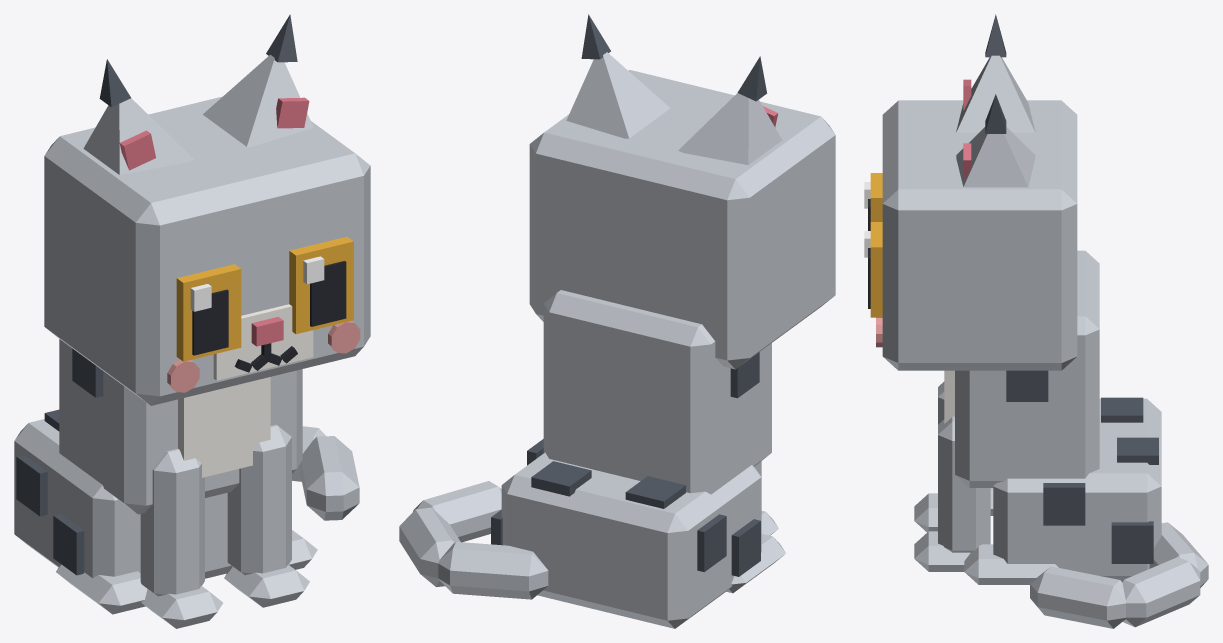
Rendered from CleanACat_Cat_Marble_Sit.fbx.
The picture shows the model from 3 angles, left to right: view 1: azimuth 30°, elevation 25°; view 2: azimuth 150°, elevation 25°; view 3: azimuth 270°, elevation 25°; orthographic projection. The views are drawn at different scales.
Visible parts, largest first — view 1: CleanACat_Cat_Marble_Sit_Head, CleanACat_Cat_Marble_Sit_Body, CleanACat_Cat_Marble_Sit_LegF2, CleanACat_Cat_Marble_Sit_LegF1, CleanACat_Cat_Marble_Sit_EarL, CleanACat_Cat_Marble_Sit_EarR, CleanACat_Cat_Marble_Sit_Eye2, CleanACat_Cat_Marble_Sit_Eye1, CleanACat_Cat_Marble_Sit_Tail; view 2: CleanACat_Cat_Marble_Sit_Body, CleanACat_Cat_Marble_Sit_Head, CleanACat_Cat_Marble_Sit_Tail, CleanACat_Cat_Marble_Sit_EarL, CleanACat_Cat_Marble_Sit_EarR; view 3: CleanACat_Cat_Marble_Sit_Head, CleanACat_Cat_Marble_Sit_Body, CleanACat_Cat_Marble_Sit_Tail, CleanACat_Cat_Marble_Sit_LegF1, CleanACat_Cat_Marble_Sit_EarL, CleanACat_Cat_Marble_Sit_EarR, CleanACat_Cat_Marble_Sit_Eye1, CleanACat_Cat_Marble_Sit_LegF2, CleanACat_Cat_Marble_Sit_Eye2.
Part boxes in pixels (x1,y1,x2,y2): CleanACat_Cat_Marble_Sit_Head: (44,96,370,405); CleanACat_Cat_Marble_Sit_Body: (14,339,317,614); CleanACat_Cat_Marble_Sit_LegF2: (140,448,222,628); CleanACat_Cat_Marble_Sit_LegF1: (224,424,309,607); CleanACat_Cat_Marble_Sit_EarL: (203,14,313,146); CleanACat_Cat_Marble_Sit_EarR: (83,59,194,174); CleanACat_Cat_Marble_Sit_Eye2: (176,264,241,361); CleanACat_Cat_Marble_Sit_Eye1: (289,236,353,334); CleanACat_Cat_Marble_Sit_Tail: (292,426,359,520); CleanACat_Cat_Marble_Sit_Body: (491,290,785,628); CleanACat_Cat_Marble_Sit_Head: (529,70,835,369); CleanACat_Cat_Marble_Sit_Tail: (399,481,548,599); CleanACat_Cat_Marble_Sit_EarL: (566,14,670,138); CleanACat_Cat_Marble_Sit_EarR: (678,56,782,165); CleanACat_Cat_Marble_Sit_Head: (876,100,1077,370); CleanACat_Cat_Marble_Sit_Body: (944,250,1161,584); CleanACat_Cat_Marble_Sit_Tail: (1030,522,1208,628); CleanACat_Cat_Marble_Sit_LegF1: (914,416,990,571); CleanACat_Cat_Marble_Sit_EarL: (956,94,1035,187); CleanACat_Cat_Marble_Sit_EarR: (956,14,1035,132); CleanACat_Cat_Marble_Sit_Eye1: (864,222,882,317); CleanACat_Cat_Marble_Sit_LegF2: (914,381,944,532); CleanACat_Cat_Marble_Sit_Eye2: (864,173,882,230).
Size of the model in its own units: 1.24 by 1.96 by 1.24.
1 material, 1 textured.
